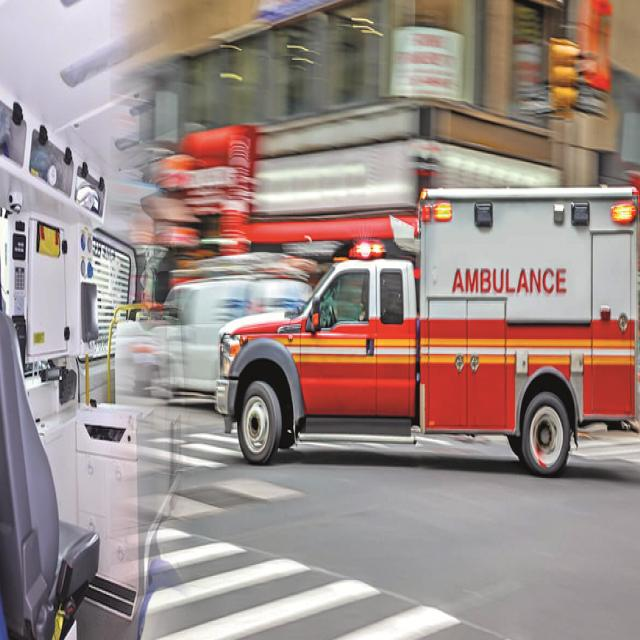Ambulance: (213, 144, 640, 506)
